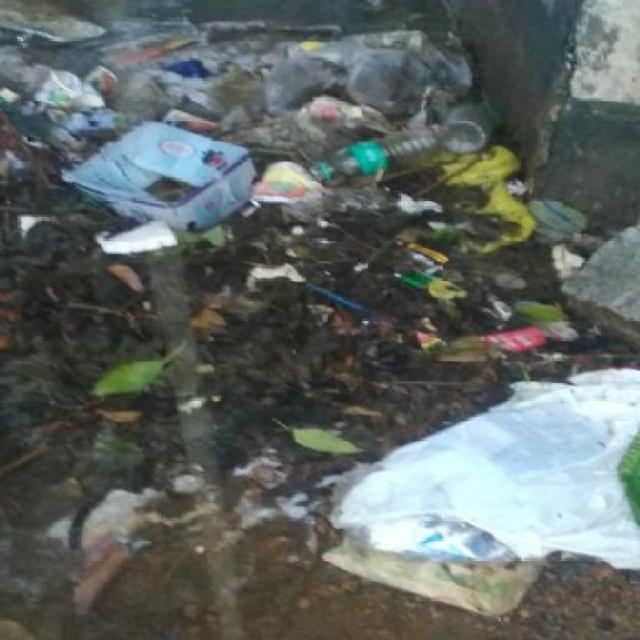garbage: (19, 17, 510, 384), (171, 240, 611, 570), (26, 262, 323, 485)
